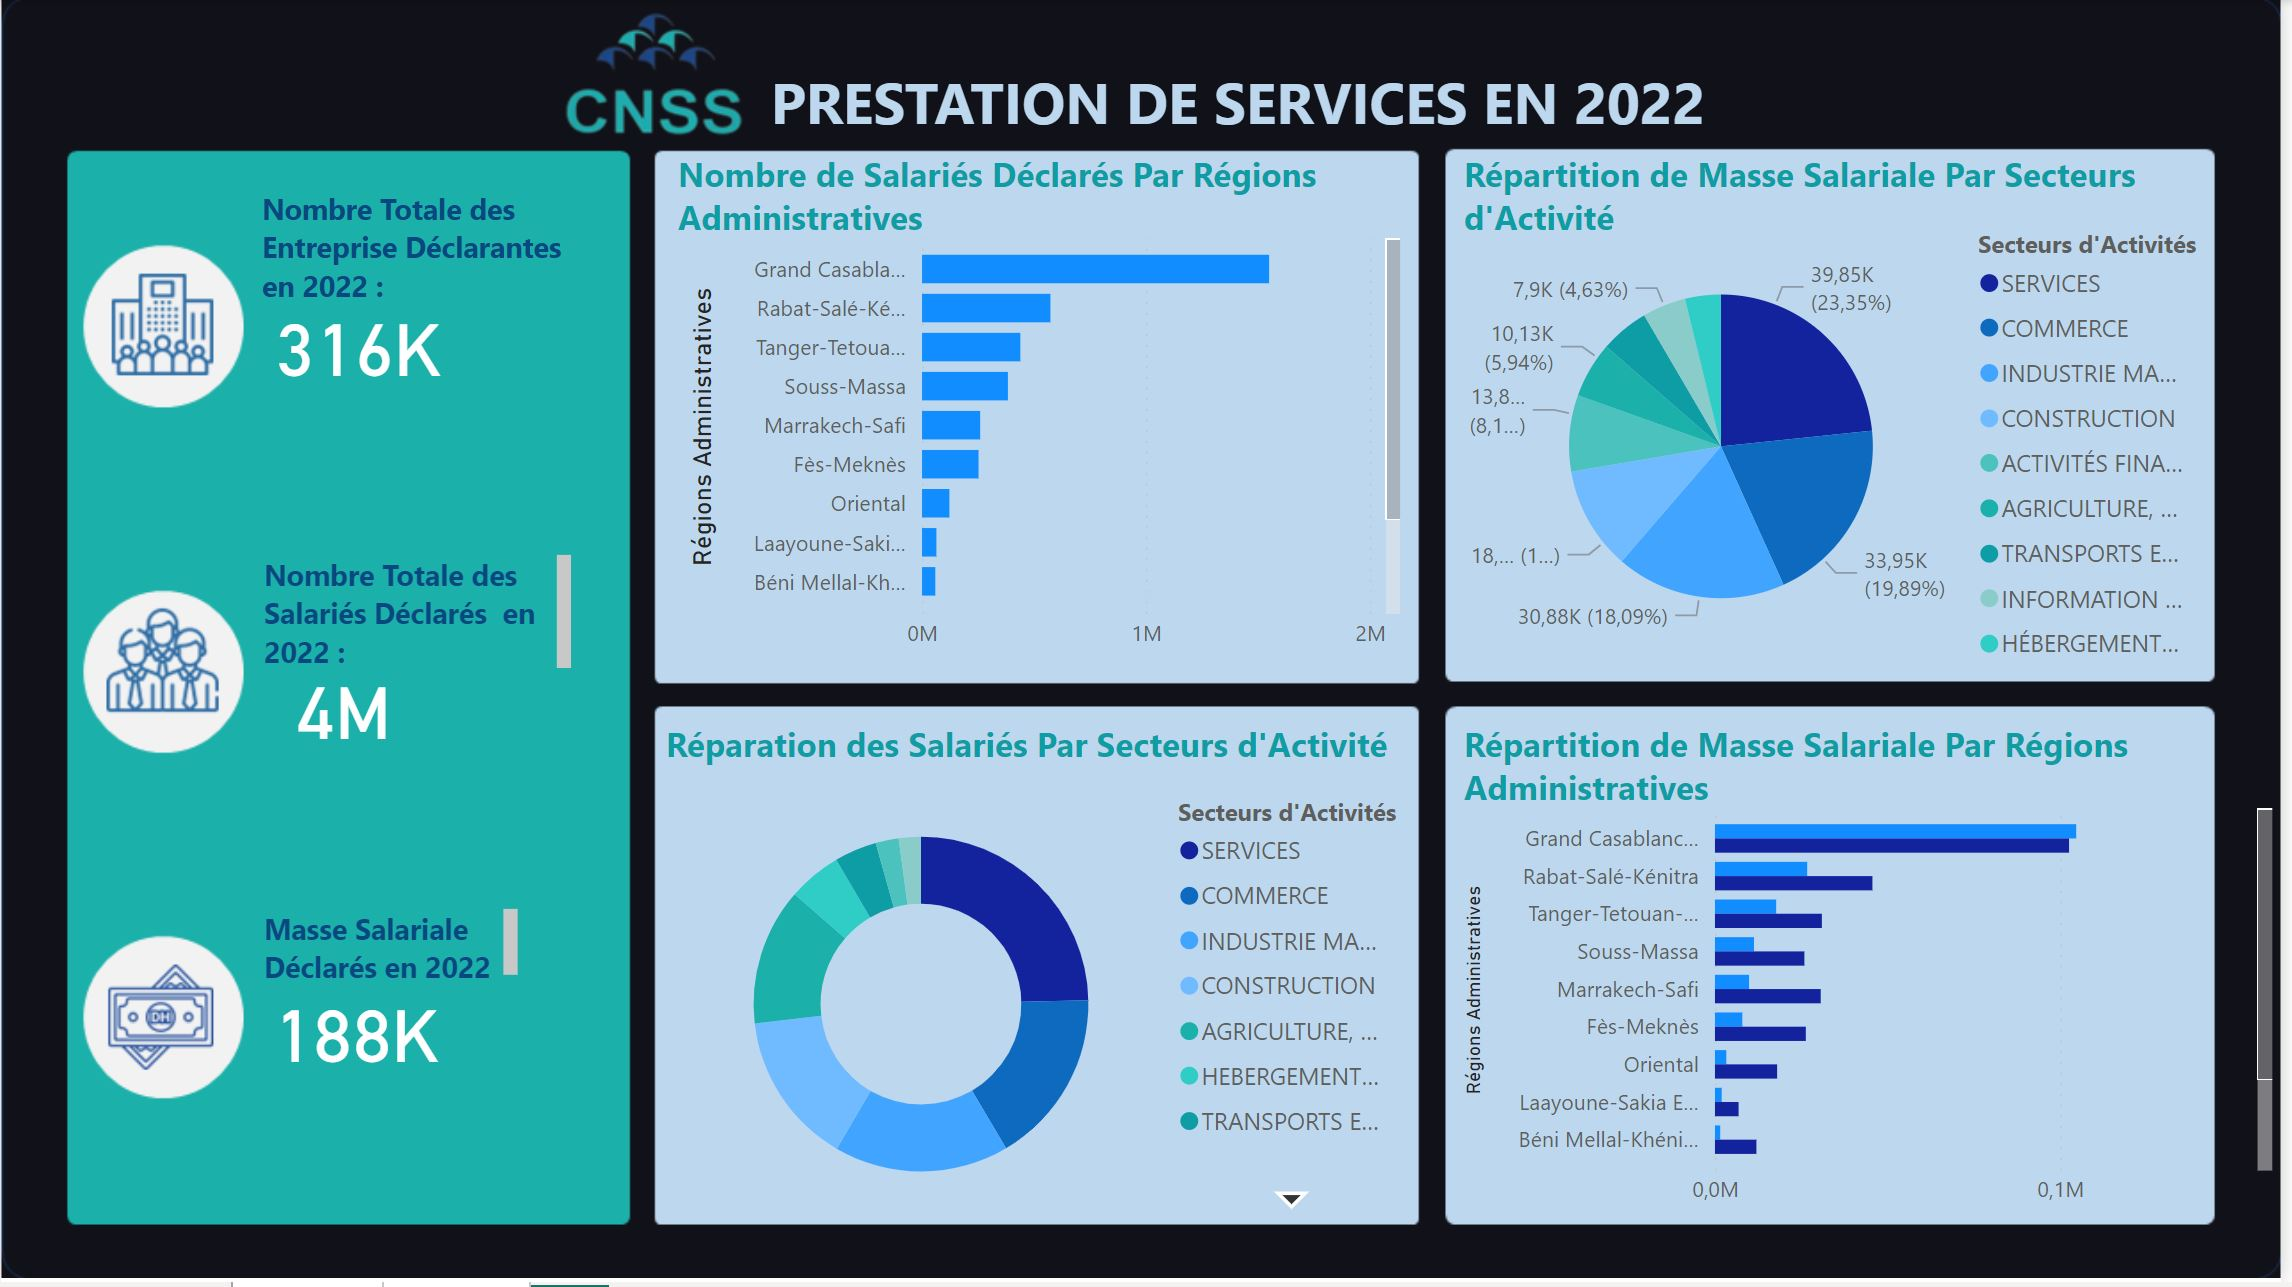

What the dashboard file says about the page in this screenshot:
{"tool":"powerbi","page":{"name":"Page 1","canvas":[1280,720],"ordinal":0},"visuals":[{"type":"clusteredBarChart","fields":{"Category":["Par Région Administrative (répartition du nbr des salariés).Column1"],"Y":["Par Région Administrative (répartition du nbr des salariés).Nombre des salariés déclarés2022"]},"box":[381.2,121.2,410,252.5],"z":0},{"type":"clusteredBarChart","fields":{"Category":["Par Région Administrative (répartition la masse salariale).Column1"],"Y":["Par Région Administrative (répartition la masse salariale).Masse Salariale Déclarée 2022(en Millions de dhs)","Par Région Administrative (Nbre des entreprises déclarates).Nombre des entreprises déclarantes 2022"]},"box":[816.2,441.2,463.8,245],"z":1000},{"type":"card","fields":{"Values":["Par Région Administrative (Nbre des entreprises déclarates).Total_Entreprise_déclarantes"]},"box":[142.5,163.8,116.2,57.5],"z":2000},{"type":"card","fields":{"Values":["Par Région Administrative (répartition du nbr des salariés).Total_salariés"]},"box":[141.2,371.2,101.2,48.8],"z":3000},{"type":"card","fields":{"Values":["Par Région Administrative (répartition la masse salariale).Total_masse_salariale"]},"box":[142.5,552.5,113.8,50],"z":4000},{"type":"donutChart","fields":{"Category":["Par Secteur d’activité (répartition du nbr des salariés).Column1"],"Y":["Par Secteur d’activité (répartition du nbr des salariés).En%"]},"box":[367.5,441.2,423.8,245],"z":5000},{"type":"pieChart","fields":{"Category":["Par Secteur d’activité (répartition la masse salariale).Column1"],"Y":["Par Secteur d’activité (répartition la masse salariale).Masse Salariale Déclarée 2022(en Millions de dhs)"]},"box":[816.2,121.2,423.8,258.8],"z":6000},{"type":"textbox","box":[403.7,30.5,582.9,61],"z":7000},{"type":"textbox","box":[141.2,101.2,183.8,77.5],"z":8000},{"type":"textbox","box":[142.5,306.2,182.5,73.8],"z":9000},{"type":"textbox","box":[142.5,505,152.5,58.8],"z":10000},{"type":"textbox","box":[375,80,416.2,60],"z":11000},{"type":"textbox","box":[816.2,80,423.8,71.2],"z":12000},{"type":"textbox","box":[368.8,400,423.8,40],"z":13000},{"type":"textbox","box":[816.2,400,423.8,60],"z":14000}]}

Visuals, with their boxes in screenshot pixels (x1, y1, x2, y2), scaled from the page's 1280x720 canvas onto the 2292x1287 screenshot:
clusteredBarChart - Par Région Administrative (répartition du nbr des salariés).Column1 x Par Région Administrative (répartition du nbr des salariés).Nombre des salariés déclarés2022: bbox=[683, 217, 1417, 668]
clusteredBarChart - Par Région Administrative (répartition la masse salariale).Column1 x Par Région Administrative (répartition la masse salariale).Masse Salariale Déclarée 2022(en Millions de dhs): bbox=[1462, 789, 2291, 1227]
card - Par Région Administrative (Nbre des entreprises déclarates).Total_Entreprise_déclarantes: bbox=[255, 293, 463, 396]
card - Par Région Administrative (répartition du nbr des salariés).Total_salariés: bbox=[253, 664, 434, 751]
card - Par Région Administrative (répartition la masse salariale).Total_masse_salariale: bbox=[255, 988, 459, 1077]
donutChart - Par Secteur d’activité (répartition du nbr des salariés).Column1 x Par Secteur d’activité (répartition du nbr des salariés).En%: bbox=[658, 789, 1417, 1227]
pieChart - Par Secteur d’activité (répartition la masse salariale).Column1 x Par Secteur d’activité (répartition la masse salariale).Masse Salariale Déclarée 2022(en Millions de dhs): bbox=[1462, 217, 2220, 679]
textbox: bbox=[723, 55, 1767, 164]
textbox: bbox=[253, 181, 582, 319]
textbox: bbox=[255, 547, 582, 679]
textbox: bbox=[255, 903, 528, 1008]
textbox: bbox=[671, 143, 1417, 250]
textbox: bbox=[1462, 143, 2220, 270]
textbox: bbox=[660, 715, 1419, 786]
textbox: bbox=[1462, 715, 2220, 822]
